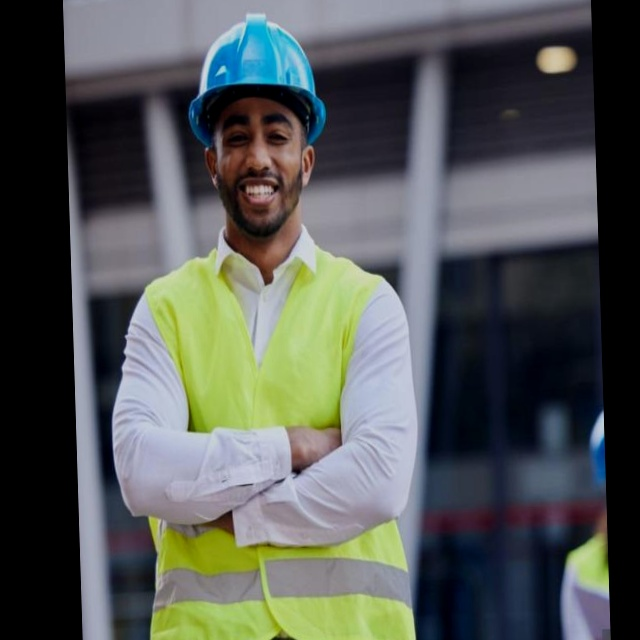Con_Casco: (184, 11, 331, 237)
Con_Chaleco: (144, 242, 411, 640)
